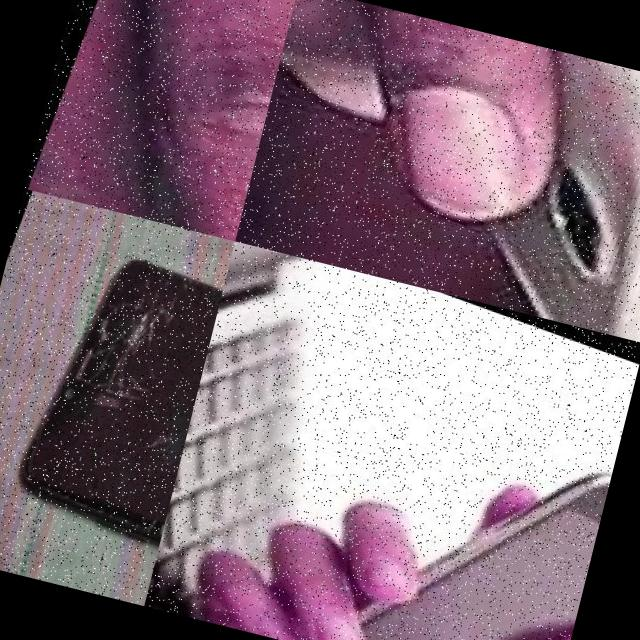screen crack: (7, 233, 226, 568)
